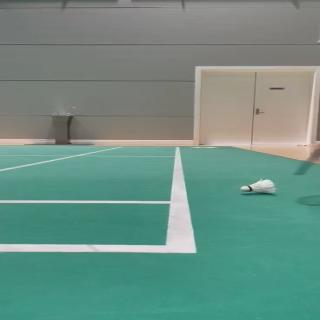Shuttle: (240, 178, 276, 194)
